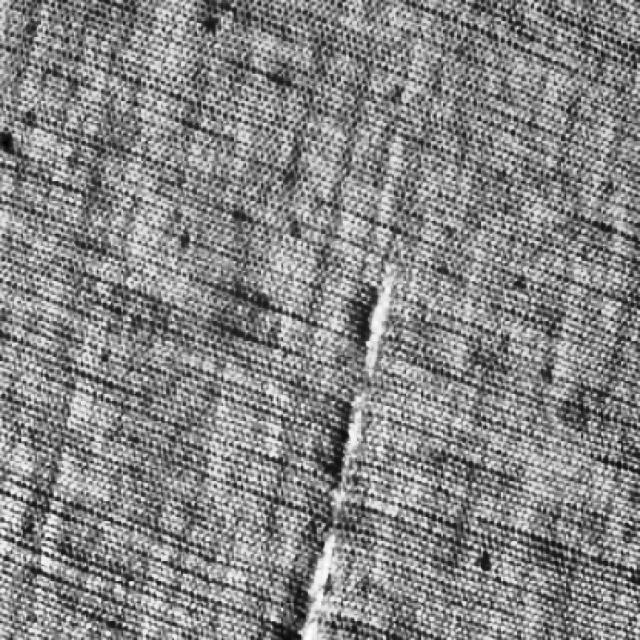thread_error: (282, 212, 421, 640)
